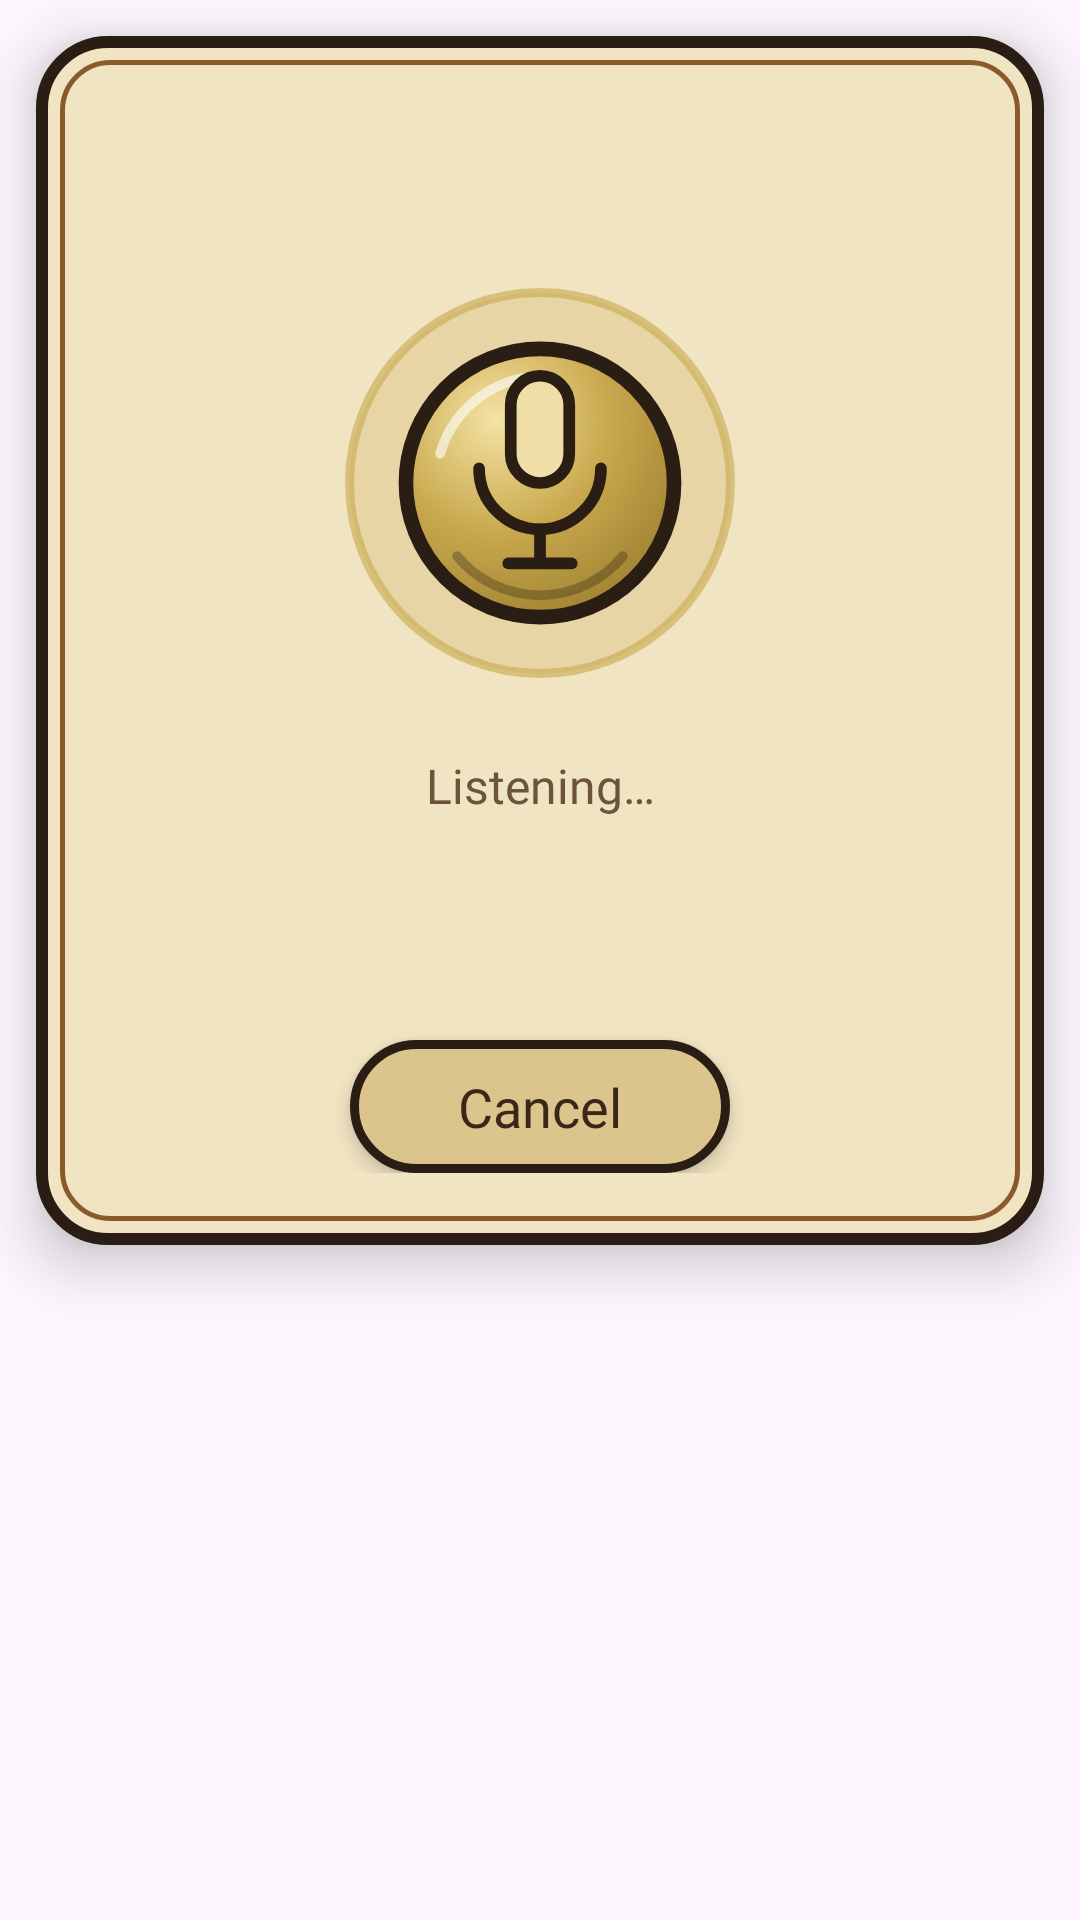

Icon bounding boxes for this 1080px x 1920px phone screenshot, format detection(x1, y1, x2, y2):
mic badge: detection(398, 341, 682, 625)
